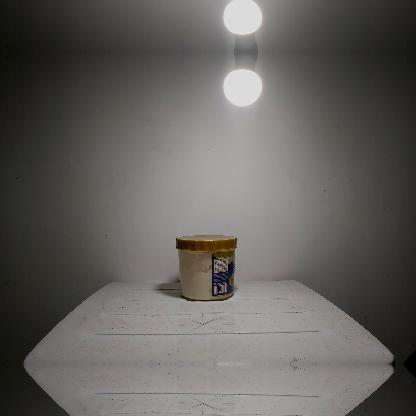Lady-s-Choice: (174, 233, 238, 303)
